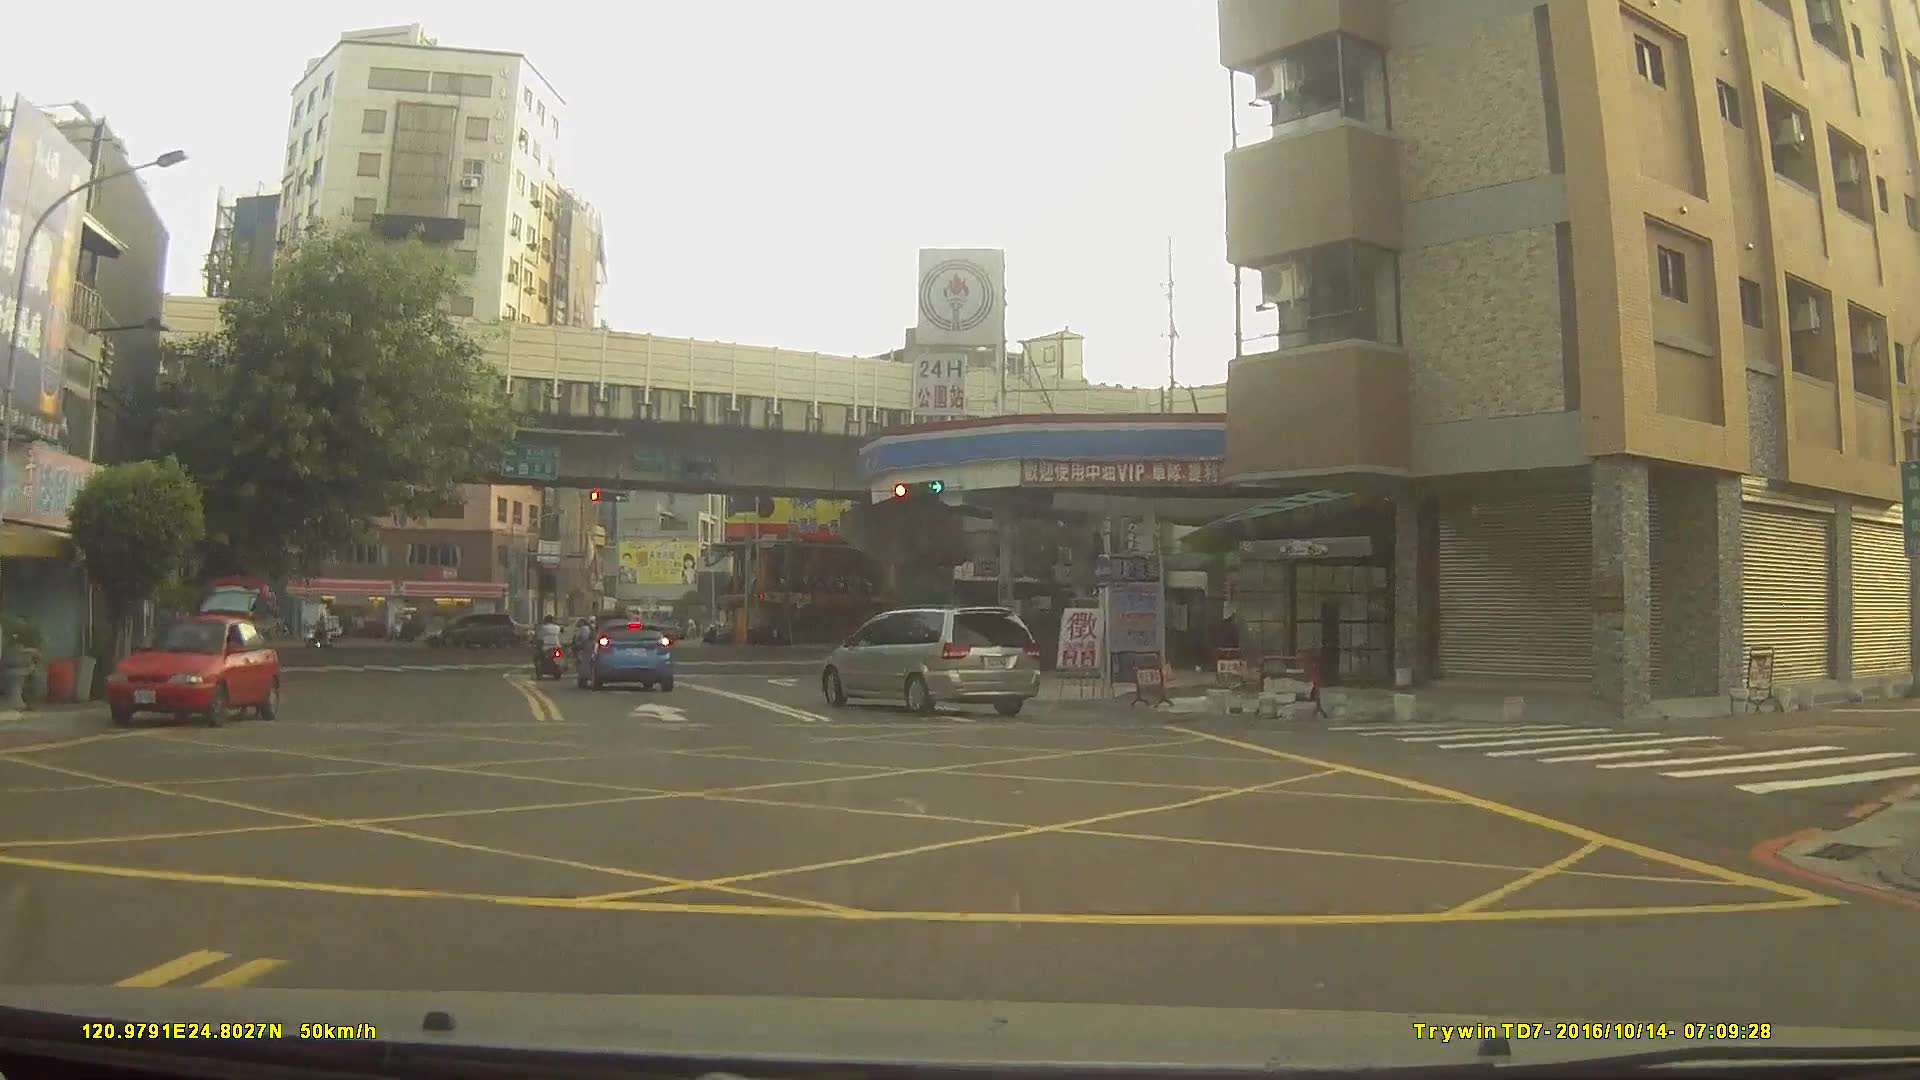rider: (531, 617, 567, 680), (303, 608, 336, 647)
vehicle: (822, 600, 1041, 712), (103, 606, 283, 724), (571, 617, 673, 691), (420, 610, 519, 648), (536, 604, 615, 639)
